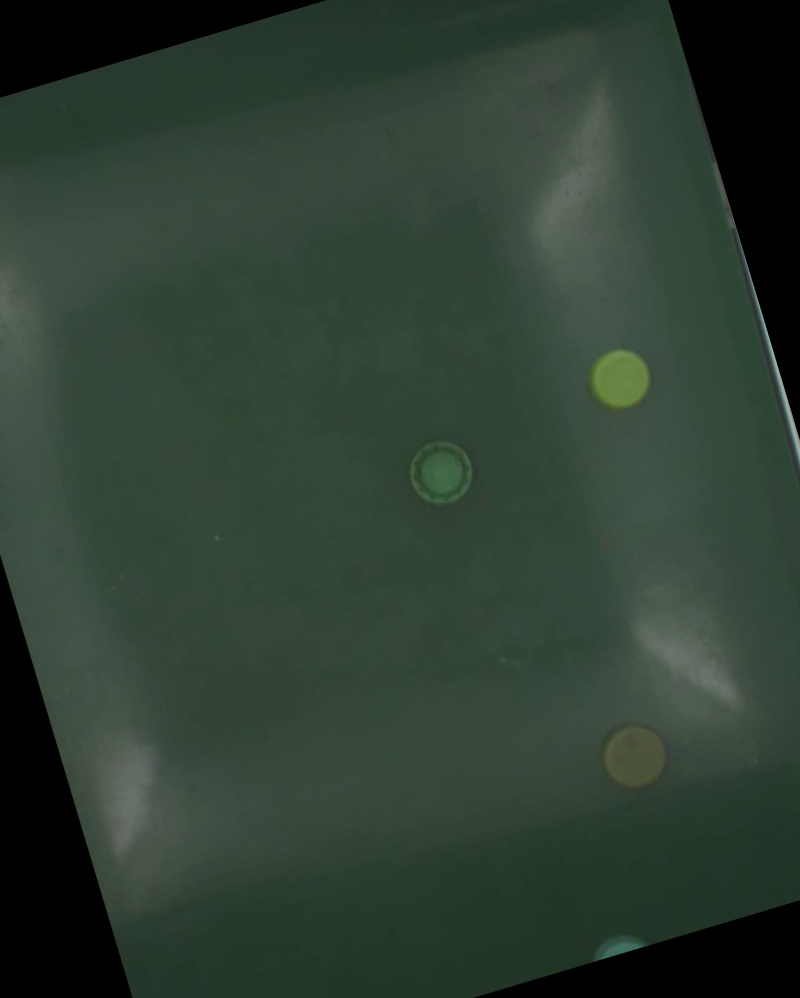Others: (595, 718, 675, 796), (582, 340, 662, 416), (402, 436, 481, 512)
